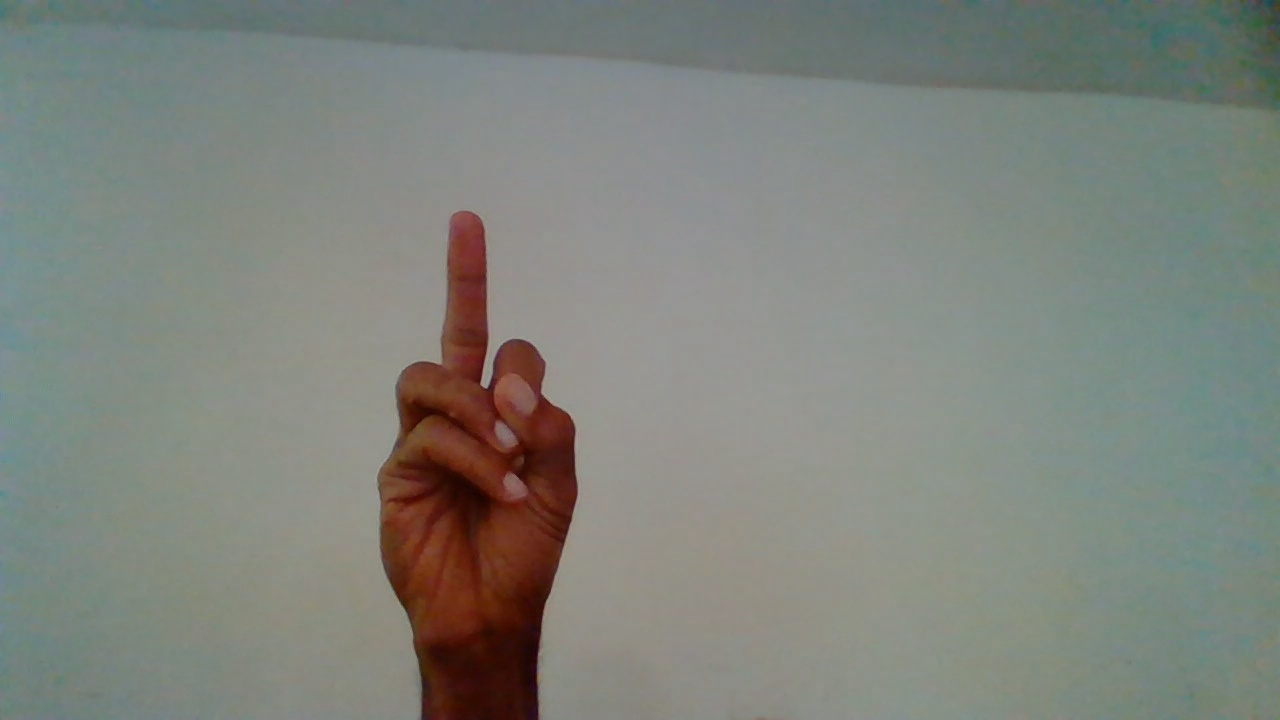he: (374, 200, 579, 701)
